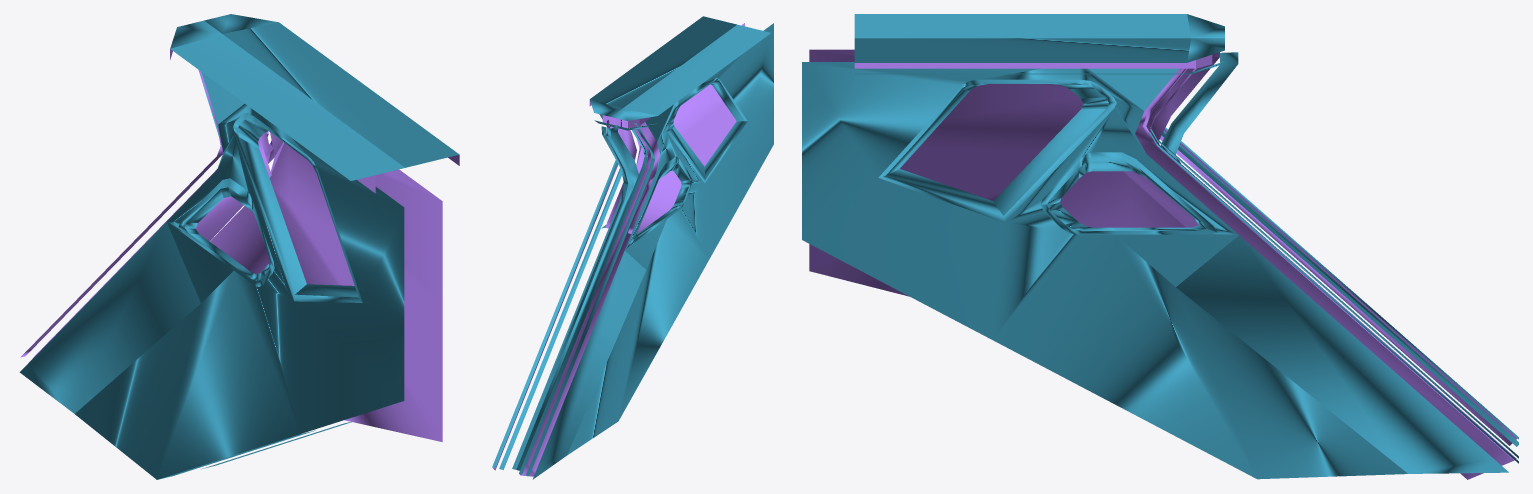
The model's file is ind_sloped_wall_pillar_a_lod3.glb.
3 views of the same model, side by side, from view 1: azimuth 30°, elevation 25°; view 2: azimuth 150°, elevation 25°; view 3: azimuth 270°, elevation 25° (orthographic). The views are drawn at different scales.
Size of the model in its own units: 2.8 by 11.65 by 17.36.
